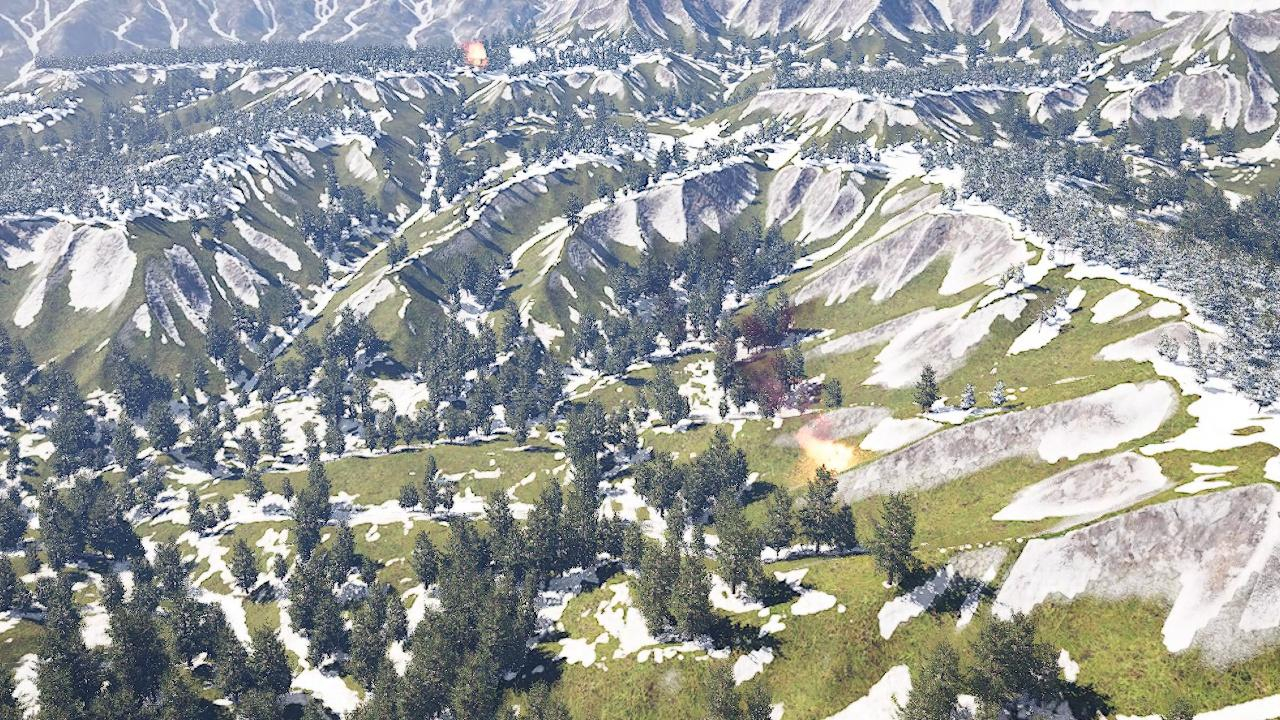fire: (804, 437, 856, 473), (467, 42, 489, 63)
smoke: (728, 307, 833, 439)
